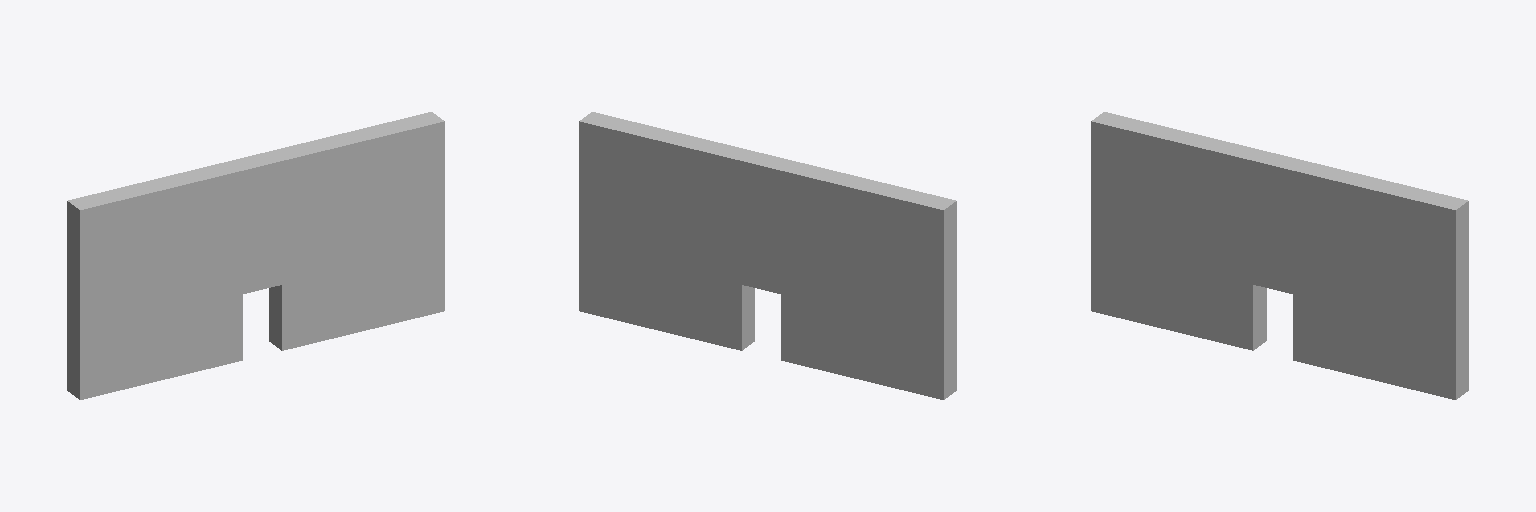
Rendered from wall_open.obj.
3 views of the same model, side by side, from view 1: azimuth 30°, elevation 25°; view 2: azimuth 150°, elevation 25°; view 3: azimuth 330°, elevation 25° (orthographic).
Parts seen in each view (by area): view 1: wall_open; view 2: wall_open; view 3: wall_open.
Boxes of the visible parts, x1=… form: wall_open: x1=67, y1=112, x2=444, y2=399; wall_open: x1=579, y1=112, x2=956, y2=399; wall_open: x1=1091, y1=112, x2=1468, y2=399.
Size of the model in its own units: 4.03 by 2.01 by 0.2525.